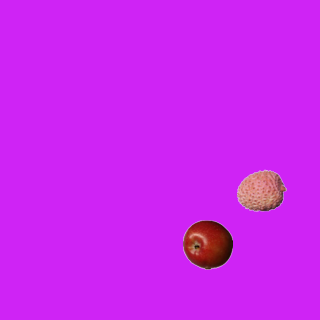Apple Braeburn: (182, 219, 232, 269)
Lychee: (236, 165, 286, 215)
